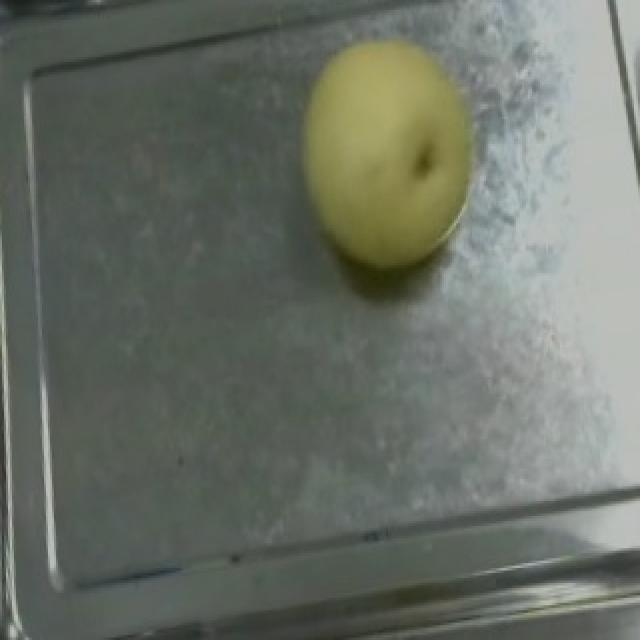Fruit: (268, 15, 506, 293)
